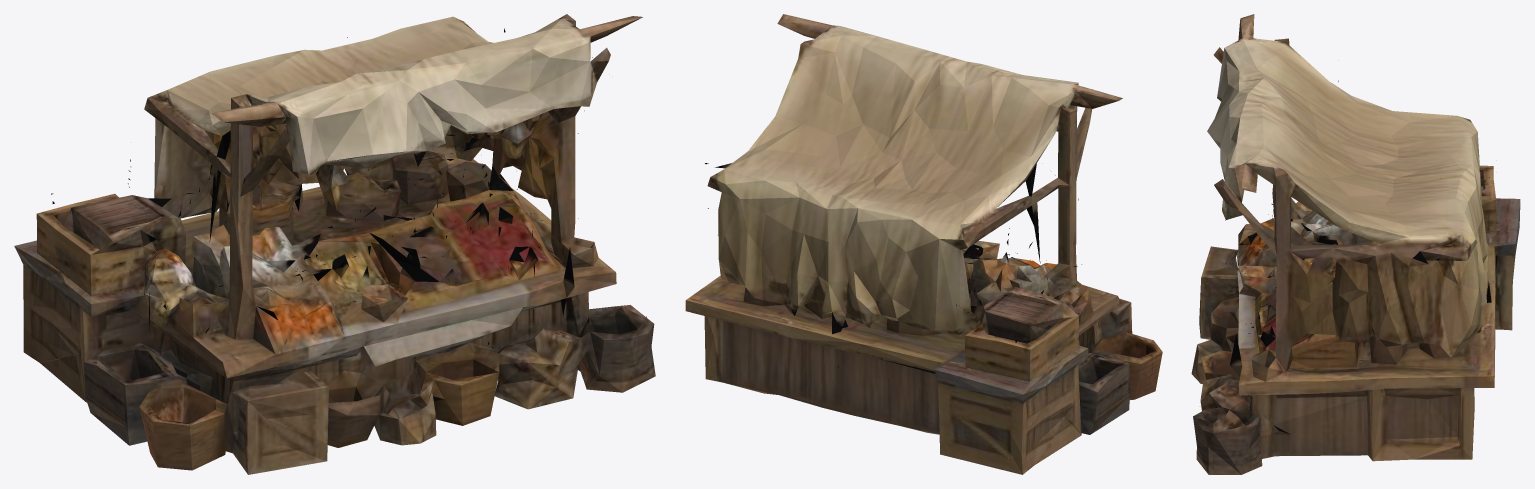
The model's file is stall_crates_cream_lod0.glb.
3 views of the same model, side by side, from view 1: azimuth 30°, elevation 25°; view 2: azimuth 150°, elevation 25°; view 3: azimuth 270°, elevation 25° (orthographic). The views are drawn at different scales.
Parts seen in each view (by area): view 1: stall_crates_cream_lod0; view 2: stall_crates_cream_lod0; view 3: stall_crates_cream_lod0.
Boxes of the visible parts, x1,y1,x2,y2 form: stall_crates_cream_lod0: (14, 14, 655, 474); stall_crates_cream_lod0: (685, 14, 1162, 474); stall_crates_cream_lod0: (1191, 14, 1520, 474).
Size of the model in its own units: 4.05 by 2.83 by 2.86.
Materials: 1 (1 with a texture image).
